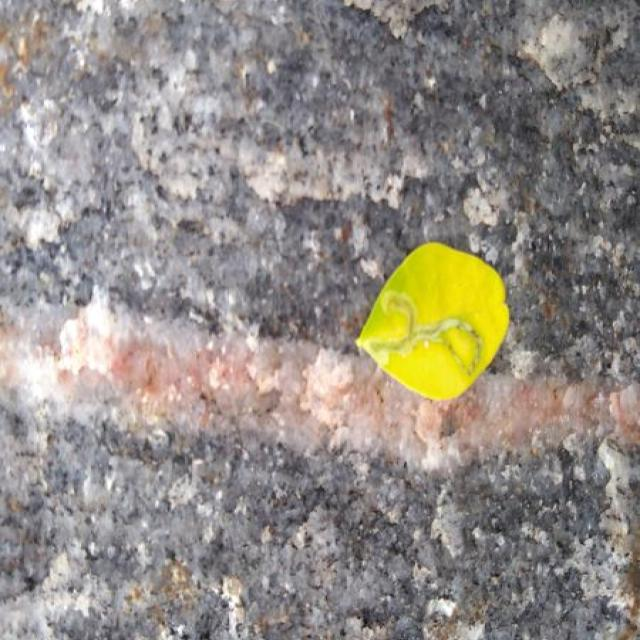drumstick: (357, 242, 508, 400)
